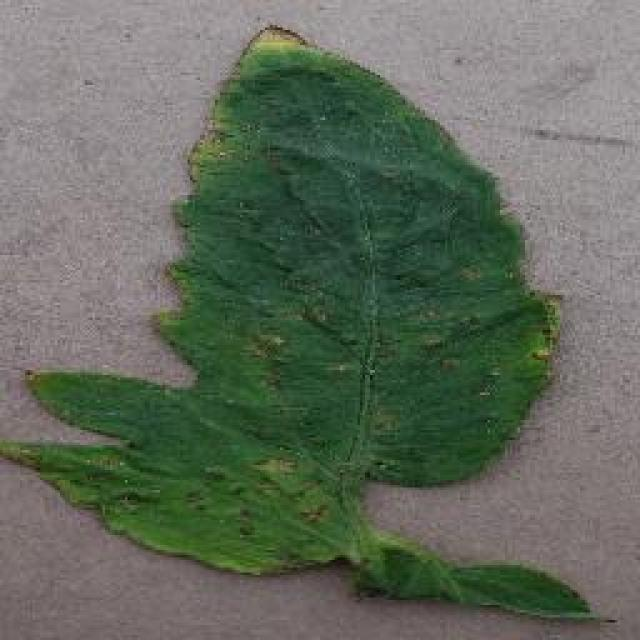Tomato___Bacterial_spot: (0, 28, 625, 628)
